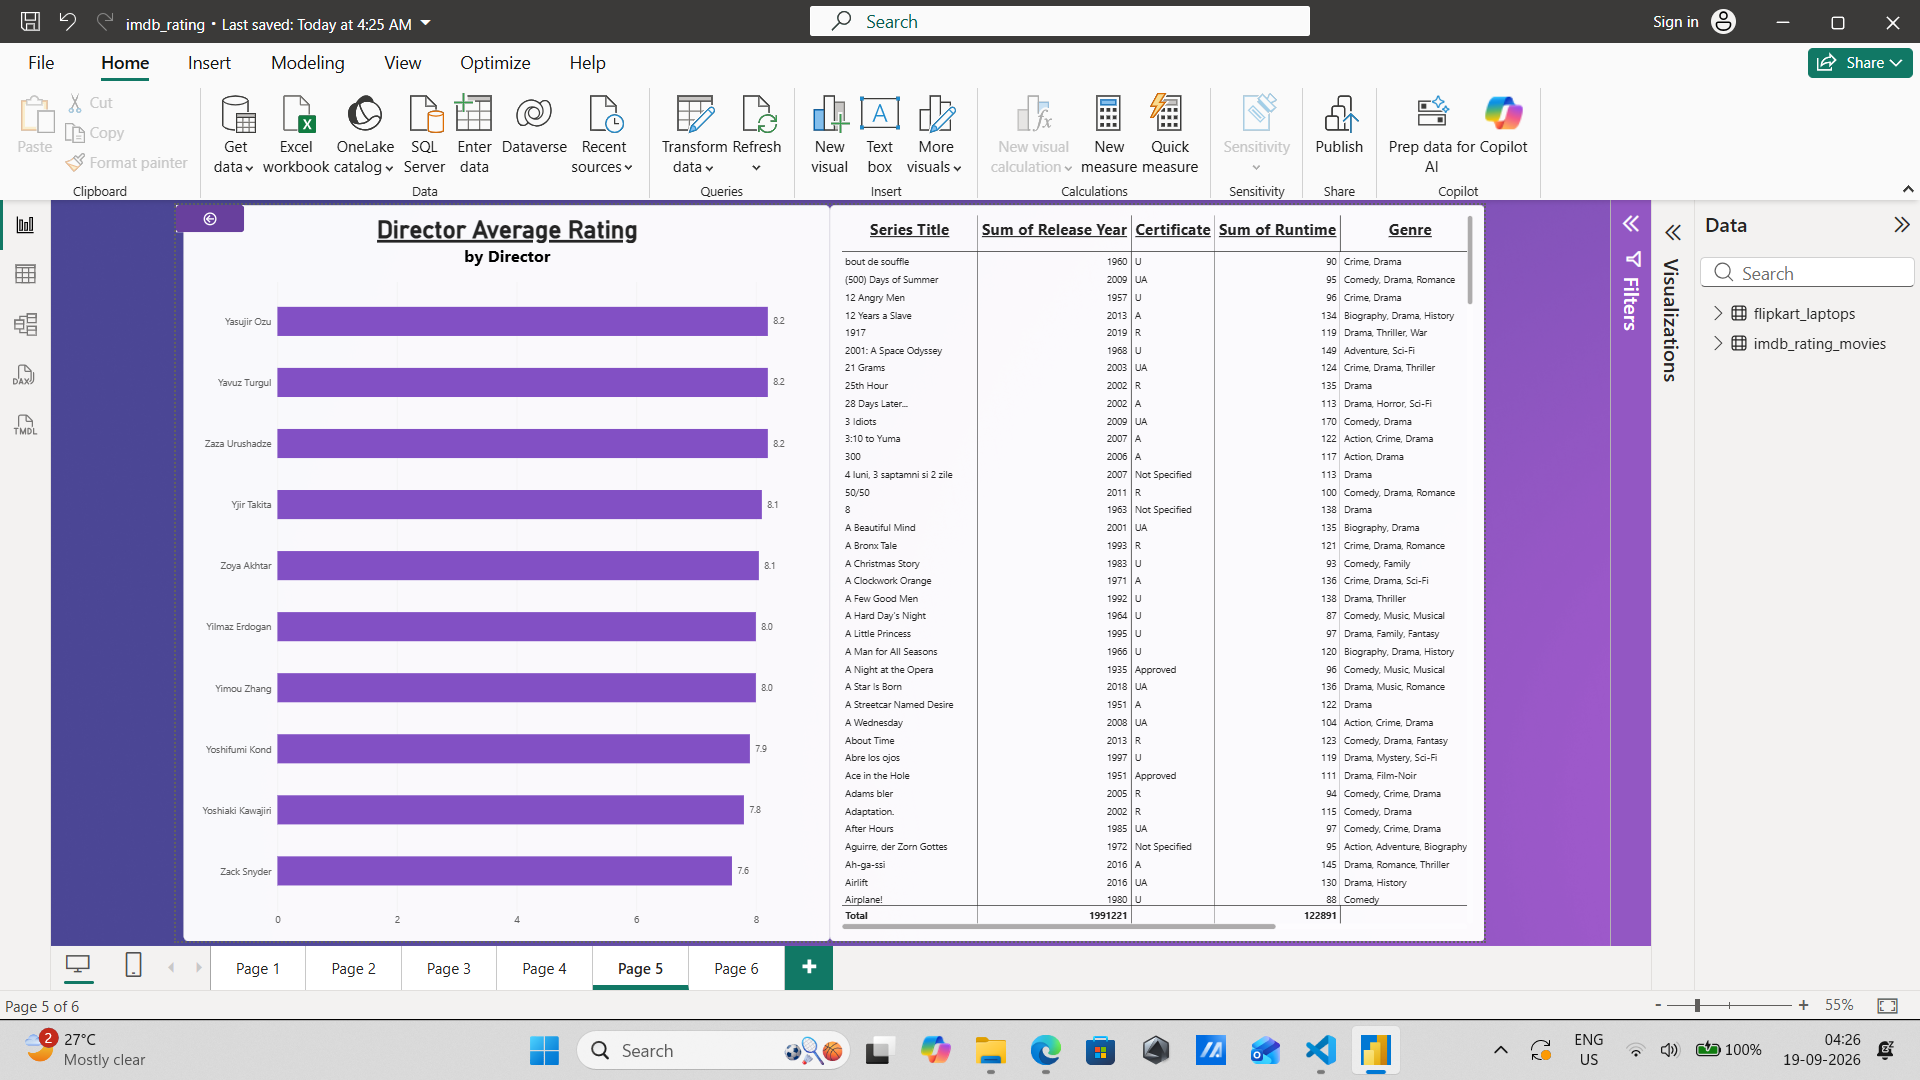

The dashboard page shown, as its layout file describes it:
{"tool":"powerbi","page":{"name":"Page 5","canvas":[1920,1080],"ordinal":4},"visuals":[{"type":"clusteredBarChart","fields":{"Category":["imdb_top_1000_movies_20260911_205646 (2).Director"],"Y":["imdb_top_1000_movies_20260911_205646 (2).Director Average Rating"]},"box":[10.3,0,948.9,1080.6],"z":0},{"type":"tableEx","fields":{"Values":["imdb_top_1000_movies_20260911_205646 (2).Series Title","Sum(imdb_top_1000_movies_20260911_205646 (2).Release Year)","imdb_top_1000_movies_20260911_205646 (2).Certificate","Sum(imdb_top_1000_movies_20260911_205646 (2).Runtime)","imdb_top_1000_movies_20260911_205646 (2).Genre","Sum(imdb_top_1000_movies_20260911_205646 (2).IMDb Rating)","imdb_top_1000_movies_20260911_205646 (2).Director"]},"box":[959.2,0,961.2,1080.6],"z":1},{"type":"actionButton","box":[0,0,100,40],"z":2}]}

Visuals, with their boxes on the page's 1920x1080 design canvas (x1, y1, x2, y2). These are canvas units, not pixel positions in the 1920x1080 screenshot, which may show the page scaled, cropped or inside an application window:
clusteredBarChart - imdb_top_1000_movies_20260911_205646 (2).Director x imdb_top_1000_movies_20260911_205646 (2).Director Average Rating: x1=10, y1=0, x2=959, y2=1081
tableEx - imdb_top_1000_movies_20260911_205646 (2).Series Title x Sum(imdb_top_1000_movies_20260911_205646 (2).Release Year): x1=959, y1=0, x2=1920, y2=1081
actionButton: x1=0, y1=0, x2=100, y2=40
